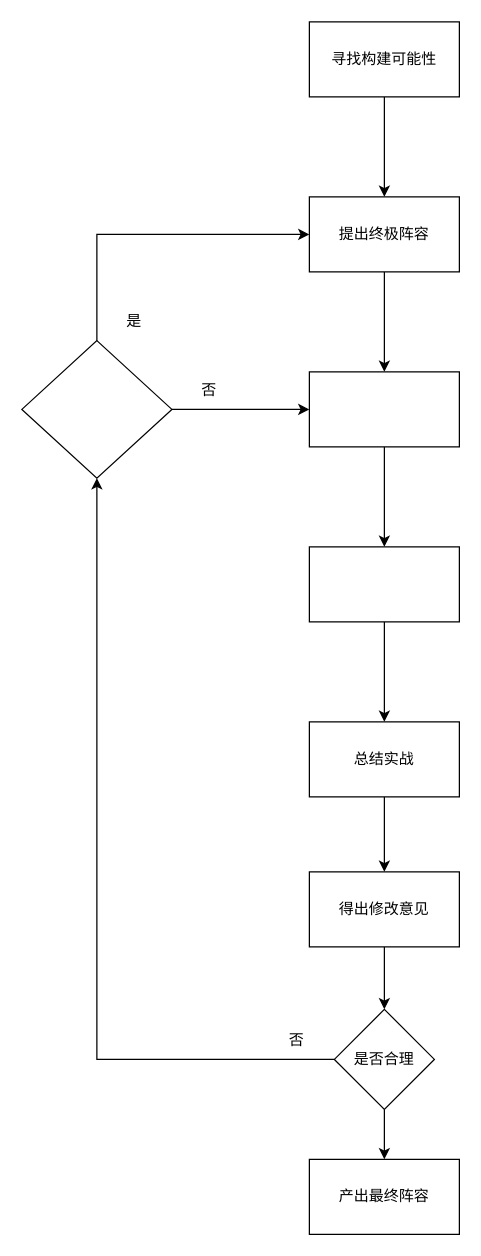
Image size: 481x1256. Some labels were removed from this diagram. Each missing label, with the box of its shape:
实战: (308, 546, 459, 622)
提出过渡手法: (308, 371, 459, 447)
过渡手法是否合理: (21, 339, 172, 478)
